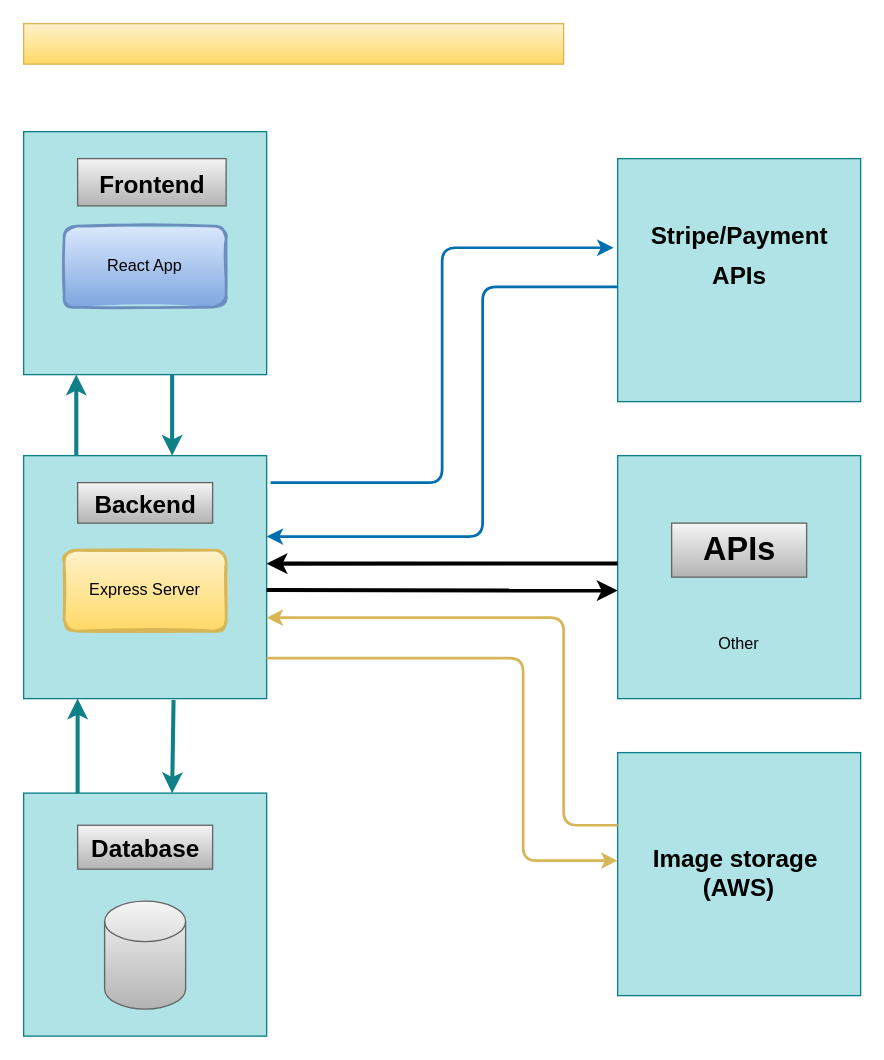
The diagram is 884 pixels wide and 1060 high, and some of its shapes have lost their labels. Here are the shapes that lost their labels. From the top down, the box of each, then its label:
(22, 22, 564, 64): She Rydes Architecture Diagram
(103, 900, 186, 1009): MongoDb Atlas
